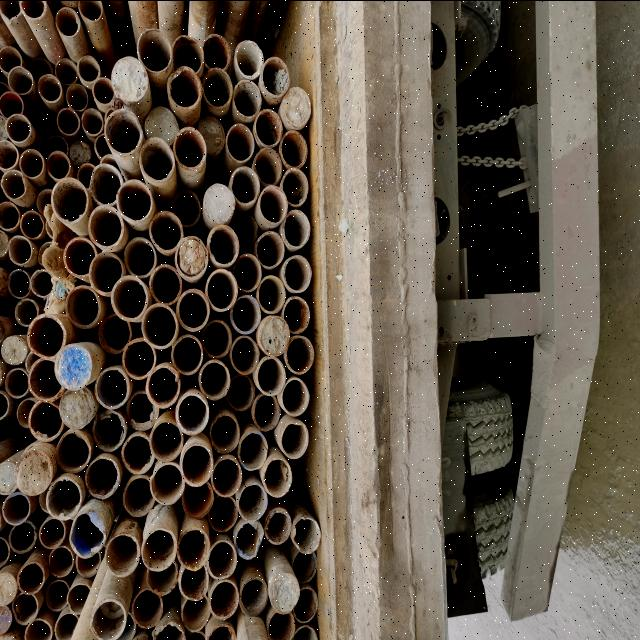pipe: (68, 510, 108, 559), (53, 342, 93, 390), (14, 448, 53, 496), (140, 302, 180, 348), (110, 272, 148, 320), (28, 356, 68, 401), (27, 312, 66, 358), (165, 64, 203, 110), (111, 55, 149, 101), (104, 107, 142, 153), (88, 203, 125, 250), (139, 135, 175, 183), (50, 177, 88, 221), (145, 362, 181, 408), (54, 429, 92, 472), (136, 27, 173, 71), (106, 532, 141, 578), (175, 233, 209, 280), (89, 598, 127, 640), (59, 386, 95, 430), (92, 407, 128, 451), (148, 419, 184, 463), (64, 284, 100, 328), (148, 210, 184, 254), (84, 456, 120, 499), (120, 431, 156, 474), (205, 225, 241, 268), (116, 177, 152, 220), (89, 252, 124, 296), (172, 124, 207, 168), (180, 441, 214, 486), (142, 529, 178, 571), (46, 478, 82, 520), (94, 366, 130, 408), (175, 391, 209, 435), (176, 287, 210, 331), (178, 526, 212, 569), (123, 235, 157, 278), (122, 336, 155, 380), (205, 267, 238, 311), (150, 464, 186, 504), (197, 358, 231, 400), (170, 332, 204, 374), (90, 162, 124, 204), (126, 389, 159, 432), (98, 311, 130, 355), (148, 263, 182, 304), (122, 475, 154, 518), (28, 400, 62, 440), (144, 106, 178, 146), (208, 578, 240, 620), (268, 572, 300, 614), (210, 412, 242, 454), (202, 66, 234, 108), (131, 588, 164, 628), (203, 182, 236, 222), (282, 86, 312, 130), (170, 34, 204, 72), (230, 164, 260, 207), (206, 540, 238, 580), (211, 456, 243, 496), (230, 294, 262, 334), (258, 316, 290, 356), (63, 236, 95, 276), (238, 576, 268, 618), (238, 429, 268, 471), (234, 38, 264, 80), (226, 122, 256, 164), (196, 115, 226, 157), (146, 559, 180, 595), (178, 562, 210, 600), (234, 520, 264, 560), (226, 373, 256, 413), (230, 334, 260, 374), (256, 356, 286, 396), (228, 210, 258, 250), (258, 184, 288, 224), (252, 146, 282, 186), (181, 481, 213, 518), (291, 516, 322, 554), (201, 320, 232, 358), (262, 56, 290, 98), (263, 458, 292, 498), (282, 376, 311, 416), (256, 232, 285, 272), (180, 595, 212, 631), (286, 334, 314, 375), (264, 506, 294, 544), (238, 484, 268, 522), (256, 274, 286, 312), (283, 254, 313, 292), (171, 188, 201, 226), (253, 108, 283, 146), (232, 78, 262, 116), (280, 420, 308, 460), (234, 252, 262, 292), (280, 168, 308, 208), (208, 494, 237, 532), (252, 393, 281, 431), (282, 210, 311, 248), (280, 130, 309, 168), (182, 595, 212, 631), (282, 296, 310, 334), (202, 32, 230, 70), (16, 559, 46, 594), (9, 518, 37, 554), (2, 490, 30, 525), (12, 592, 40, 626), (293, 584, 317, 622), (292, 548, 318, 582), (1, 334, 28, 366), (0, 168, 27, 200), (46, 578, 70, 613), (268, 610, 296, 640), (13, 296, 39, 328), (48, 544, 72, 578), (5, 112, 32, 142), (39, 518, 64, 550), (38, 72, 62, 105), (7, 64, 34, 93), (76, 548, 102, 578), (7, 234, 33, 264), (19, 148, 45, 178), (54, 6, 80, 36), (54, 611, 80, 640), (54, 56, 80, 85), (19, 209, 44, 239), (4, 367, 27, 399), (66, 582, 90, 612), (46, 150, 70, 180), (76, 54, 100, 84), (0, 89, 24, 119), (24, 617, 54, 640), (7, 268, 30, 298), (56, 106, 80, 134), (0, 461, 20, 494), (31, 266, 53, 296), (82, 106, 104, 136), (66, 81, 88, 111), (29, 55, 53, 82), (92, 76, 115, 104), (37, 482, 57, 514), (18, 396, 38, 428), (68, 138, 92, 164), (34, 239, 56, 267), (0, 44, 22, 72), (0, 568, 17, 603), (44, 133, 68, 157), (36, 187, 56, 215), (77, 160, 97, 188), (156, 622, 186, 640), (0, 202, 20, 229), (19, 0, 47, 19), (0, 140, 18, 169), (120, 609, 136, 640), (204, 625, 237, 640), (80, 0, 102, 22), (92, 132, 110, 158), (0, 604, 14, 636), (0, 1, 20, 22), (294, 625, 320, 640), (0, 390, 10, 420), (0, 535, 10, 564), (4, 229, 8, 277)
